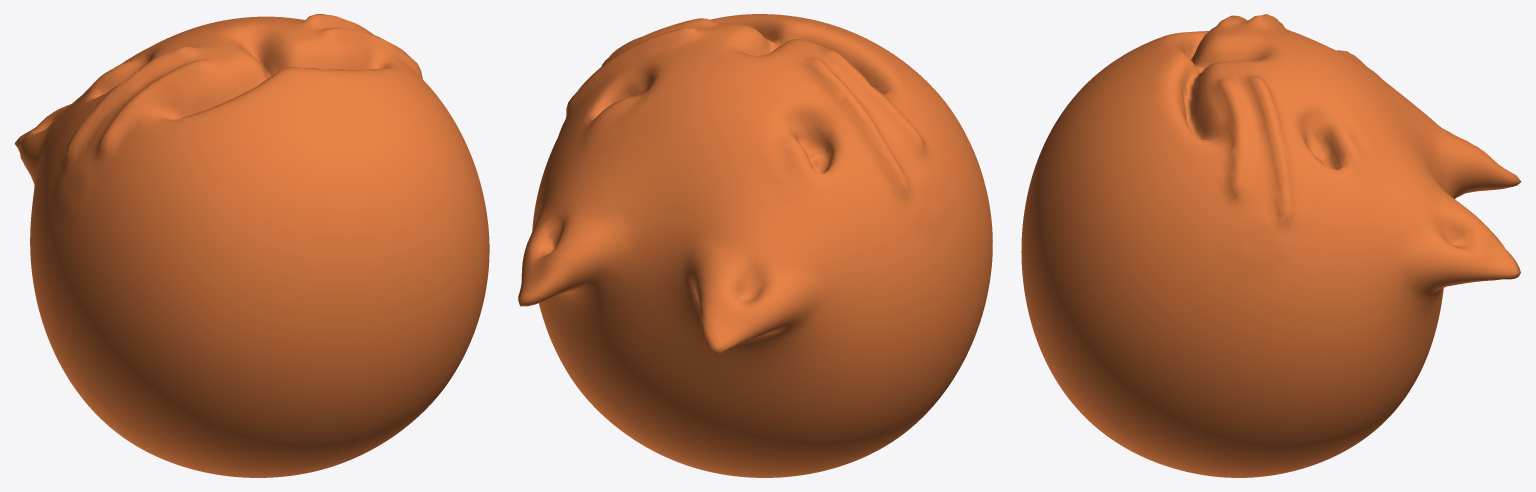
Rendered from untitlK32523ed.fbx.
The picture shows the model from 3 angles, left to right: view 1: azimuth 30°, elevation 25°; view 2: azimuth 150°, elevation 25°; view 3: azimuth 270°, elevation 25°; orthographic projection. The views are drawn at different scales.
Parts seen in each view (by area): view 1: fsdfs; view 2: fsdfs; view 3: fsdfs.
Boxes of the visible parts, x1,y1,x2,y2 form: fsdfs: [14, 14, 489, 477]; fsdfs: [518, 14, 992, 477]; fsdfs: [1021, 14, 1521, 477].
Bounding box in the file's own units: 168 × 170 × 189.
